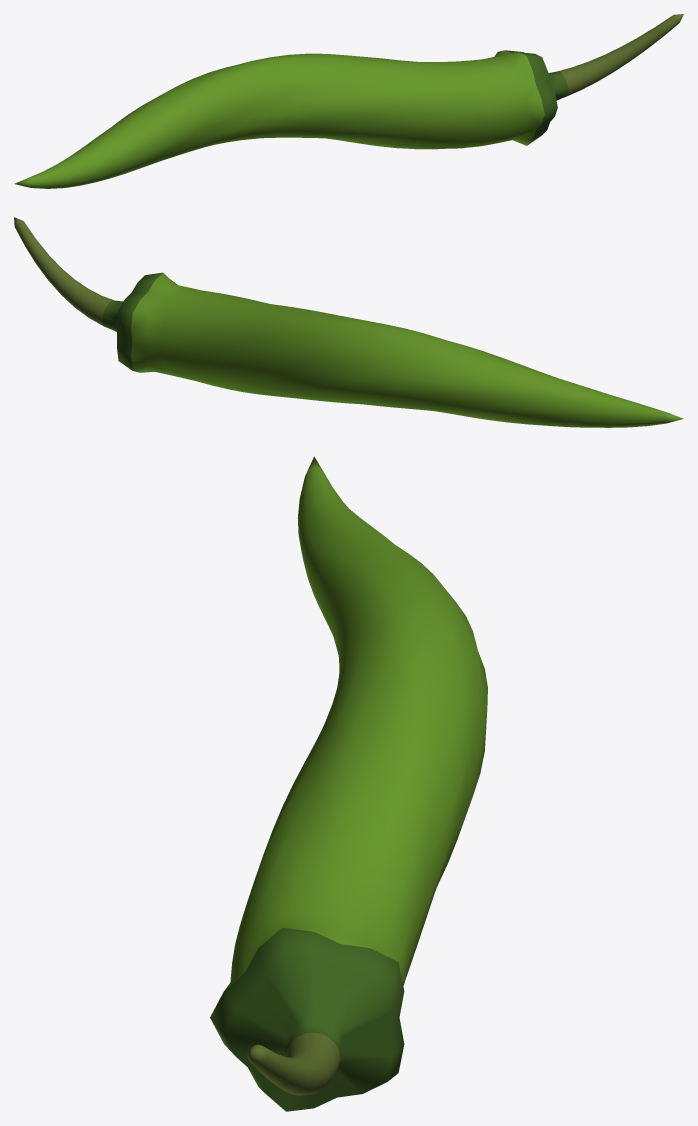
3 views of the same model, one above another, from view 1: azimuth 30°, elevation 25°; view 2: azimuth 150°, elevation 25°; view 3: azimuth 270°, elevation 25° (orthographic). The views are drawn at different scales.
Parts seen in each view (by area): view 1: NEW315_LongChili_LOD2; view 2: NEW315_LongChili_LOD2; view 3: NEW315_LongChili_LOD2.
Boxes of the visible parts, left/top/right/bottom form: NEW315_LongChili_LOD2: left=14, top=14, right=683, bottom=188; NEW315_LongChili_LOD2: left=14, top=217, right=683, bottom=427; NEW315_LongChili_LOD2: left=210, top=456, right=487, bottom=1111.
Bounding box in the file's own units: 0.1595 × 0.0278 × 0.0293.
